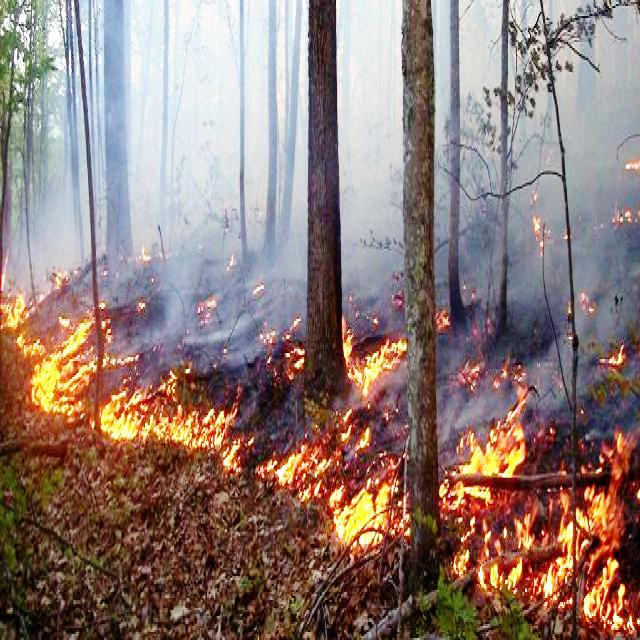api: (550, 463, 628, 592), (450, 418, 535, 516), (32, 323, 95, 428), (162, 389, 238, 471), (460, 532, 532, 609), (339, 471, 399, 558), (270, 446, 326, 516), (105, 380, 155, 451), (587, 556, 630, 632), (356, 337, 406, 397), (5, 280, 32, 368), (289, 331, 304, 380), (343, 320, 355, 380), (597, 357, 627, 378)
